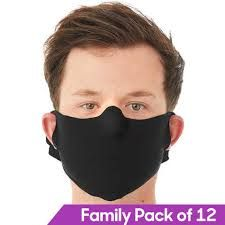with-mask: (40, 22, 189, 201)
